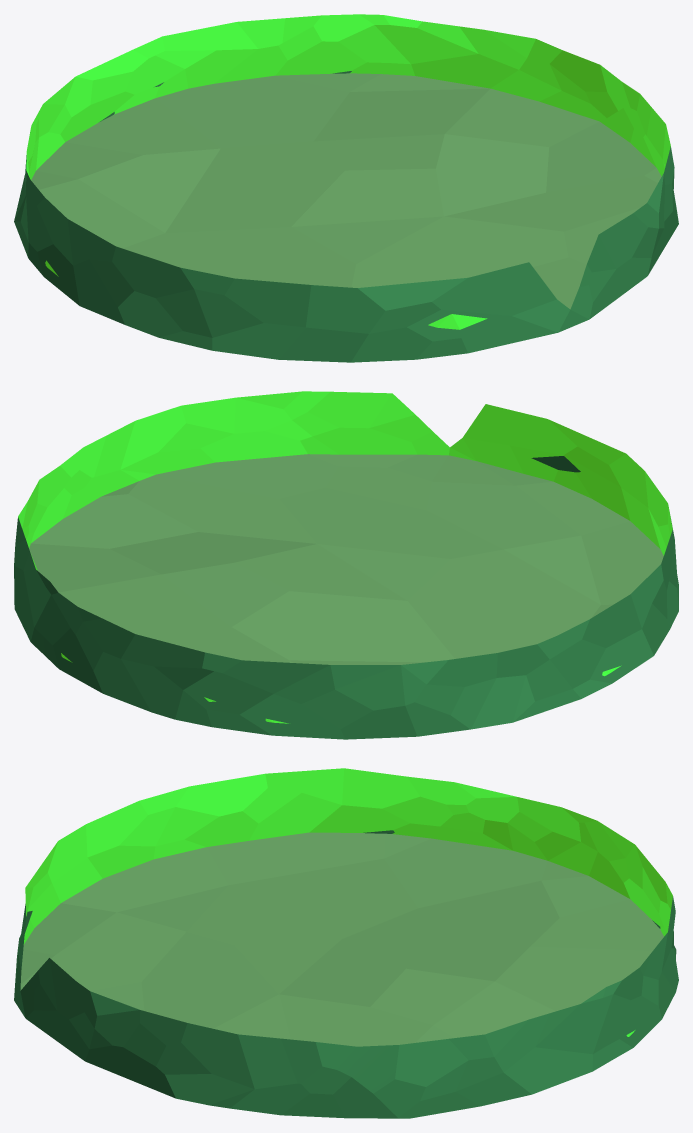
File: plant_lily_pad_medium_E.fbx
3 views of the same model, one above another, from view 1: azimuth 30°, elevation 25°; view 2: azimuth 150°, elevation 25°; view 3: azimuth 270°, elevation 25° (orthographic).
Parts seen in each view (by area): view 1: plant_lily_pad_medium_E; view 2: plant_lily_pad_medium_E; view 3: plant_lily_pad_medium_E.
Boxes of the visible parts, <box> form: plant_lily_pad_medium_E: <box>14,14,678,362</box>; plant_lily_pad_medium_E: <box>14,391,678,739</box>; plant_lily_pad_medium_E: <box>14,768,678,1118</box>.
Size of the model in its own units: 83.01 by 10.94 by 82.97.
